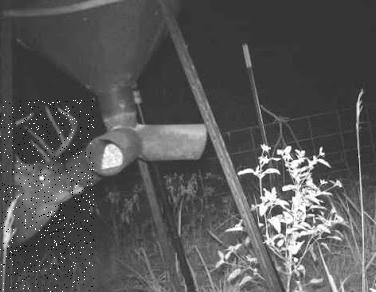Deer: (0, 100, 94, 292)
